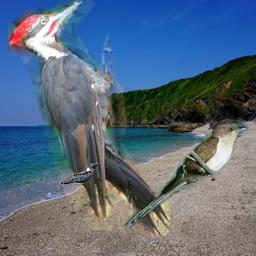Crow: (59, 163, 99, 185)
Cuckoo: (122, 122, 252, 232)
Woodpecker: (8, 0, 170, 236)
